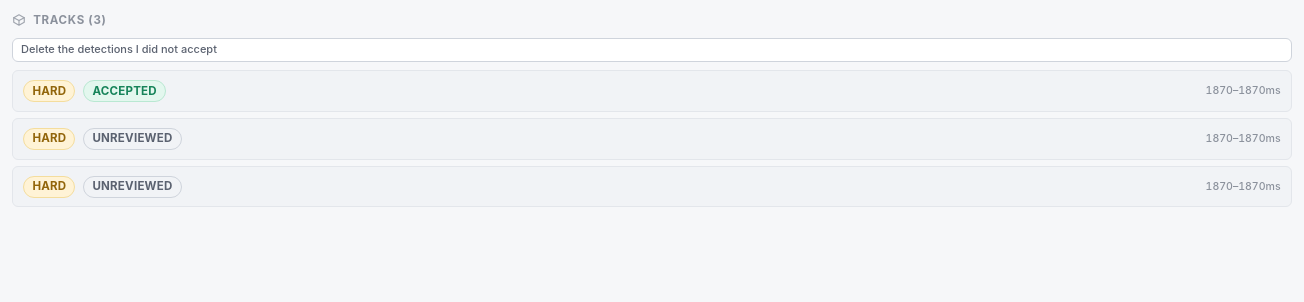
Test: SweepTracks › says why it was refused
This screenshot has width=1304, height=302.
Click the button "Delete the detections I did not accept" at (119, 49), box 12,38 -> 1292,62
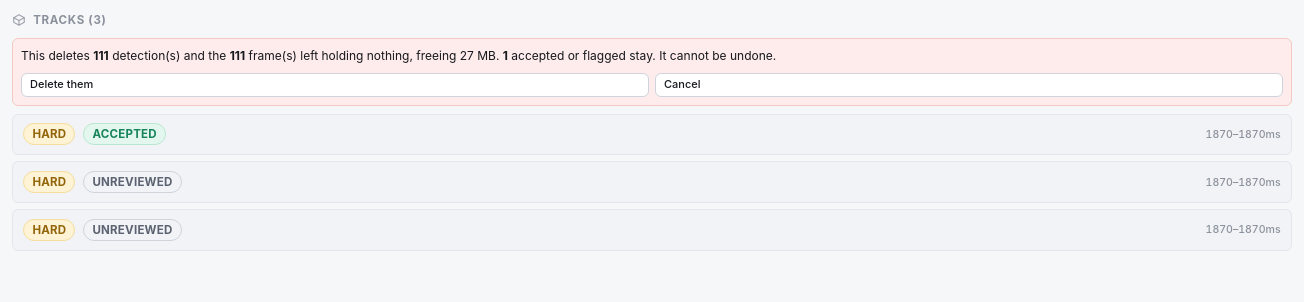
Click the button "Delete them" at (62, 84), box 21,73 -> 649,97
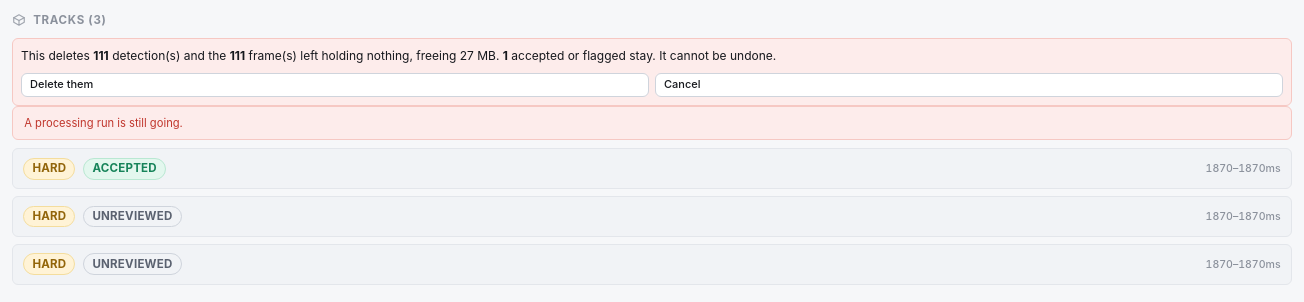
Check: the text "A processing run is still going." is shown, box 12,106 -> 1292,140
